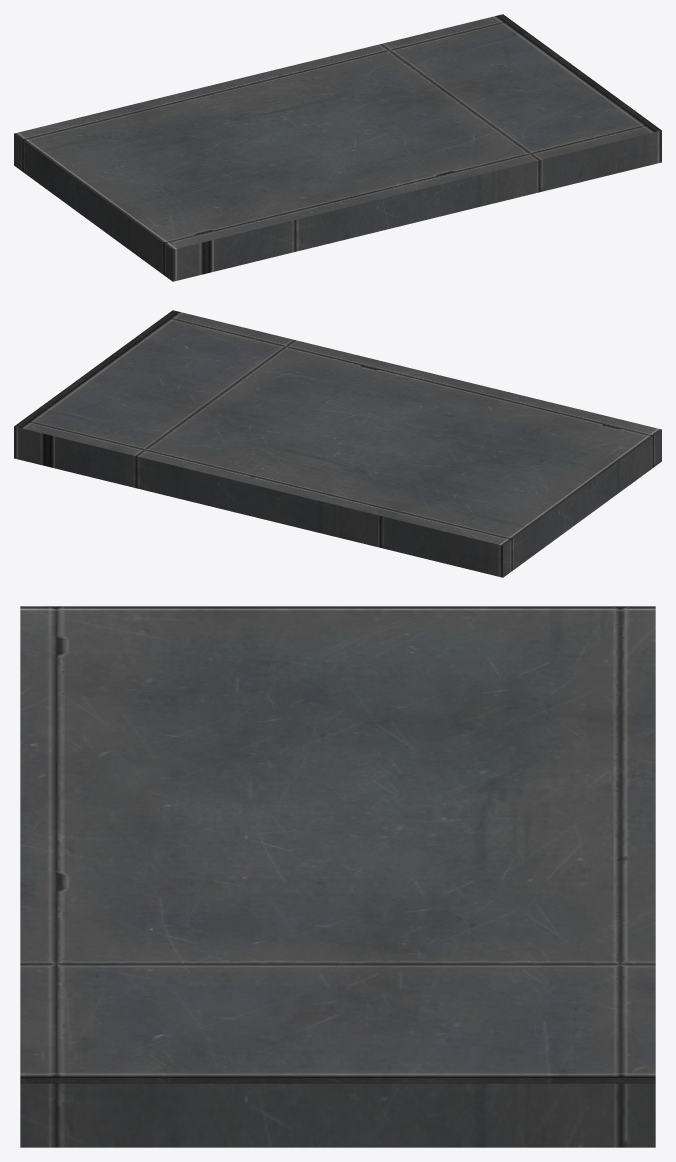
The model's file is Neon_Floor_8x45A.FBX.
3 renders of one model, top to bottom at view 1: azimuth 30°, elevation 25°; view 2: azimuth 150°, elevation 25°; view 3: azimuth 270°, elevation 25°, orthographic. The views are drawn at different scales.
Visible parts, largest first — view 1: Neon_Floor_8x45A; view 2: Neon_Floor_8x45A; view 3: Neon_Floor_8x45A.
Boxes of the visible parts, x1,y1,x2,y2 form: Neon_Floor_8x45A: [14, 14, 661, 281]; Neon_Floor_8x45A: [14, 310, 661, 577]; Neon_Floor_8x45A: [20, 606, 655, 1147].
Size of the model in its own units: 8 by 0.5 by 4.5.
